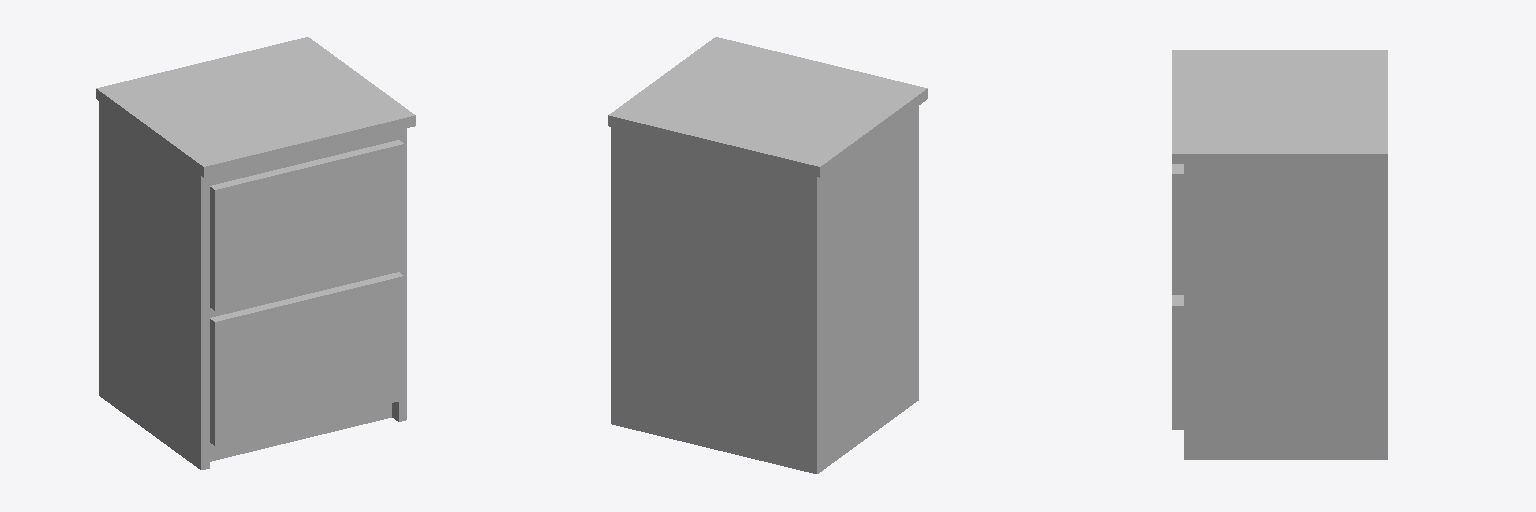
Rendered from IKEA-MALM_Commode_2_tiroirs_variante_2-3D.obj.
3 views of the same model, side by side, from view 1: azimuth 30°, elevation 25°; view 2: azimuth 150°, elevation 25°; view 3: azimuth 270°, elevation 25° (orthographic).
Parts seen in each view (by area): view 1: MALM_Commode_2_tiroirs; view 2: MALM_Commode_2_tiroirs; view 3: MALM_Commode_2_tiroirs.
Boxes of the visible parts, x1=… form: MALM_Commode_2_tiroirs: x1=96, y1=37, x2=415, y2=469; MALM_Commode_2_tiroirs: x1=608, y1=37, x2=927, y2=473; MALM_Commode_2_tiroirs: x1=1172, y1=50, x2=1387, y2=459.
Size of the model in its own units: 720 by 1000 by 633.